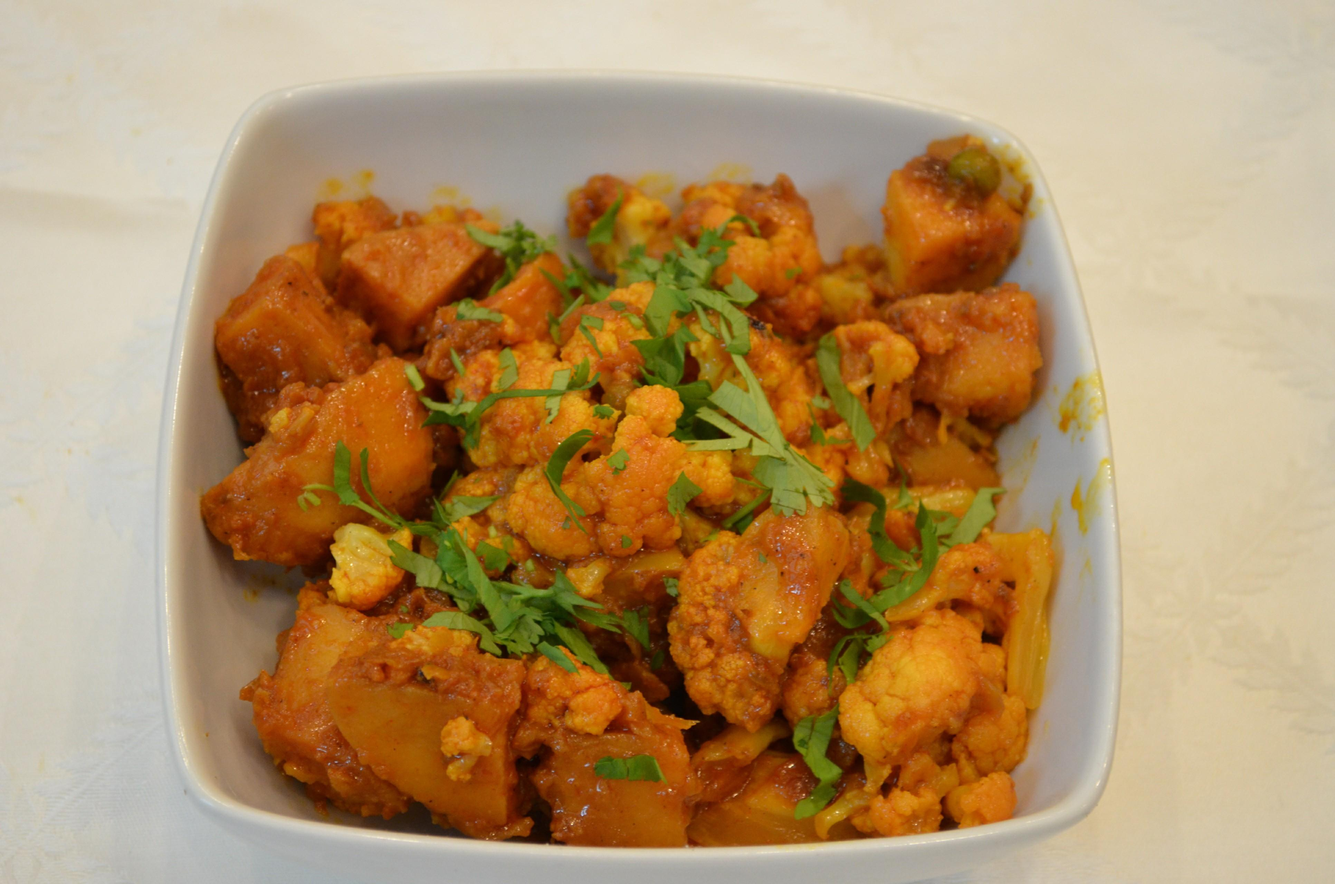AlooGobi: (199, 140, 1050, 846)
